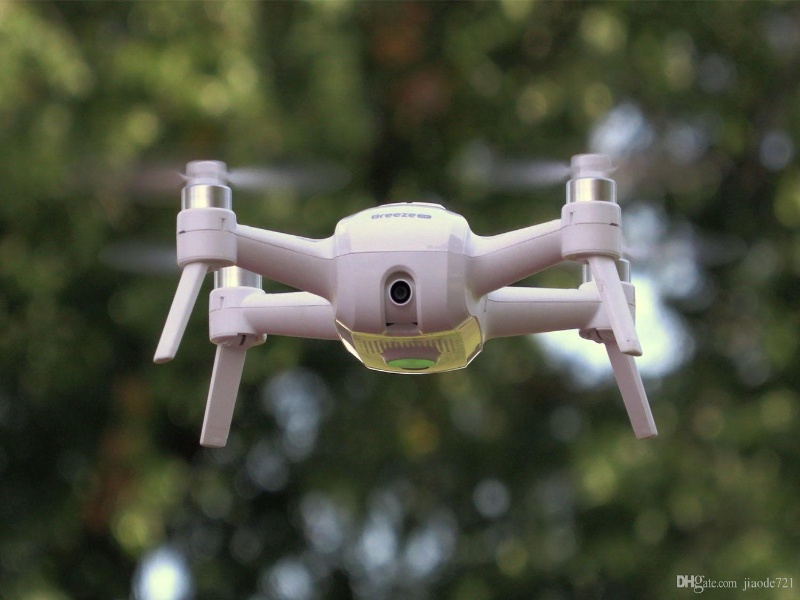drone: (136, 149, 678, 458)
